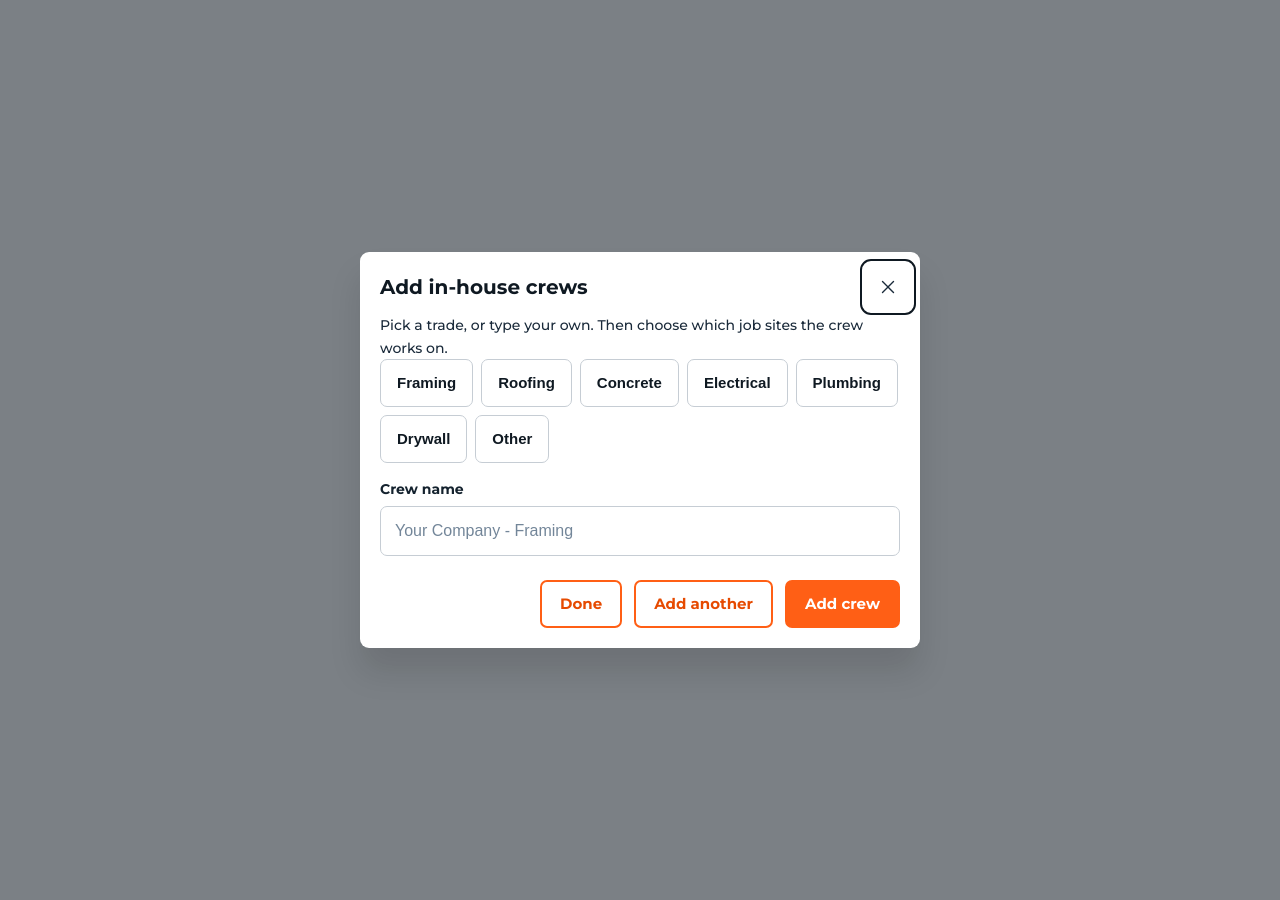
Test: CrewForm › falls back to an empty prefix until the company has loaded
Click the button "Framing" at (427, 383), box [380,359,473,407]
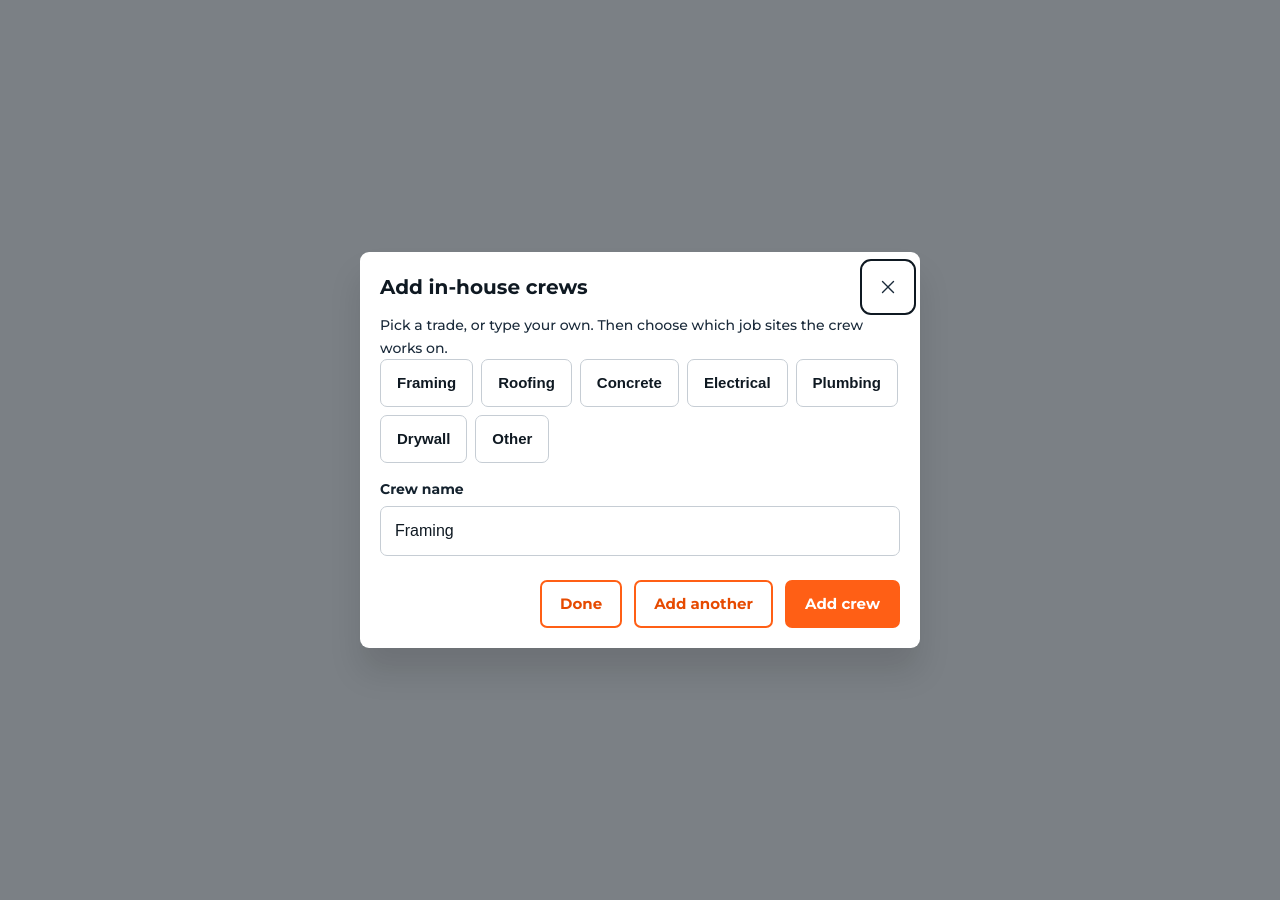
Check: the field labelled "Crew name" holds "Framing", box [380,506,900,556]
